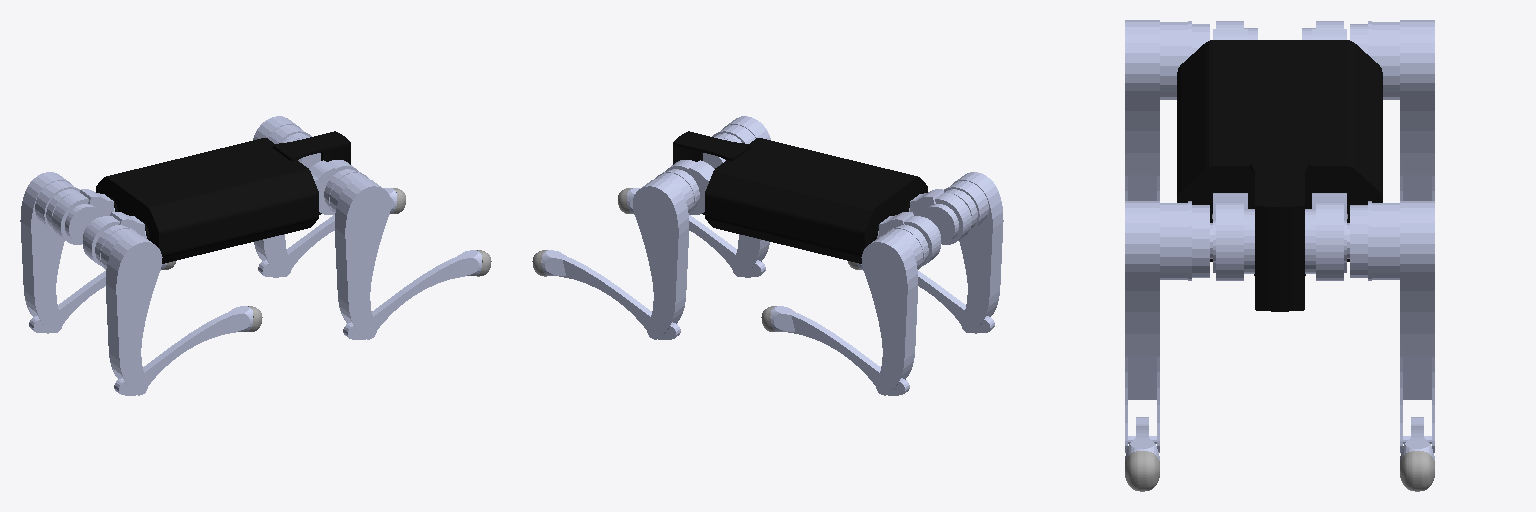
The robot description file, URDF, robot "dog":
<?xml version="1.0" encoding="utf-8"?>
<robot name="dog">
  <!-- ============ Materials ============ -->
  <material name="black"><color rgba="0.10196 0.10196 0.10196 1"/></material>
  <material name="silver"><color rgba="0.79216 0.81961 0.93333 1"/></material>
  <material name="gray"><color rgba="0.69804 0.69804 0.69804 1"/></material>
  <material name="white"><color rgba="1 1 1 1"/></material>

  <!-- ============ Base (主基座) ============ -->
  <link name="base">
    <inertial>
      <origin xyz="0.0063754 1.9125E-17 -5.2009E-18" rpy="0 0 0"/>
      <mass value="13.555"/>
      <inertia ixx="0.051785" ixy="-6.5573E-18" ixz="-6.0673E-18" 
               iyy="0.11159" iyz="2.7689E-18" izz="0.13989"/>
    </inertial>
    <visual>
      <origin xyz="0 0 0" rpy="0 0 0"/>
      <geometry>
        <mesh filename="../meshes/base.STL"/>
      </geometry>
      <material name="black"/>
    </visual>
    <collision>
      <origin xyz="0 0 0" rpy="0 0 0"/>
      <geometry>
        <box size="0.3 0.14 0.10"/>
      </geometry>
    </collision>
  </link>

  <!-- ==================== IMU Link ==================== -->
  <joint name="imu_joint" type="fixed" dont_collapse="true">
    <parent link="base"/>
    <child link="imu_link"/>
    <origin rpy="0 0 0" xyz="-0.08213 0 -0.033"/>
  </joint>
  <link name="imu_link">
    <inertial>
      <mass value="0.001"/>
      <origin rpy="0 0 0" xyz="0 0 0"/>
      <inertia ixx="0.0001" ixy="0" ixz="0" iyy="0.0001" iyz="0" izz="0.0001"/>
    </inertial>
    <visual>
      <origin rpy="0 0 0" xyz="0 0 0"/>
      <geometry>
        <box size="0.001 0.001 0.001"/>
      </geometry>
    </visual>
  </link>

  <!-- ==================== FL Leg ==================== -->
  <link name="FL_hip">
    <inertial>
      <origin xyz="-0.010697 -0.0033174 3.5324E-18" rpy="0 0 0"/>
      <mass value="0.33292"/>
      <inertia ixx="0.0001789" ixy="-1.0761E-05" ixz="-1.0819E-20" 
               iyy="0.0003417" iyz="1.4246E-20" izz="0.00025417"/>
    </inertial>
    <visual>
      <origin xyz="0 0 0" rpy="0 0 0"/>
      <geometry>
        <mesh filename="../meshes/FL_hip.STL"/>
      </geometry>
      <material name="silver"/>
    </visual>
    <collision>
      <origin xyz="0 0.088 0" rpy="1.5708 0 0"/>
      <geometry>
        <cylinder length="0.0315" radius="0.0405"/>
      </geometry>
    </collision>
  </link>
  
  <joint name="FL_hip_joint" type="revolute">
    <origin xyz="0.2145 0.05 0" rpy="0 0 0"/>
    <parent link="base"/>
    <child link="FL_hip"/>
    <axis xyz="-1 0 0"/>
    <limit lower="-1.05" upper="1.05" effort="17" velocity="30.1"/>
  </joint>

  <link name="FL_thigh">
    <inertial>
      <origin xyz="-0.0069171 -0.014196 -0.040905" rpy="0 0 0"/>
      <mass value="1.5467"/>
      <inertia ixx="0.0064369" ixy="-0.00015187" ixz="0.00066183" 
               iyy="0.0062486" iyz="-0.00089812" izz="0.0014778"/>
    </inertial>
    <visual>
      <origin xyz="0 0 0" rpy="0 0 0"/>
      <geometry>
        <mesh filename="../meshes/FL_thigh.STL"/>
      </geometry>
      <material name="silver"/>
    </visual>
    <collision>
      <origin xyz="-0.018 0 -0.11" rpy="0 1.5708 0"/>
      <geometry>
        <box size="0.12 0.035 0.04577"/>
      </geometry>
    </collision>
  </link>
  
  <joint name="FL_thigh_joint" type="revolute">
    <origin xyz="0 0.088 0" rpy="0 0 0"/>
    <parent link="FL_hip"/>
    <child link="FL_thigh"/>
    <axis xyz="0 -1 0"/>
    <limit lower="-1.57" upper="3.49" effort="17" velocity="30.1"/>
  </joint>

  <link name="FL_calf">
    <inertial>
      <origin xyz="0.012446 6.1697E-10 -0.11689" rpy="0 0 0"/>
      <mass value="0.1266"/>
      <inertia ixx="0.00089879" ixy="-1.6714E-11" ixz="-3.7677E-05" 
               iyy="0.0009089" iyz="4.713E-12" izz="1.8028E-05"/>
    </inertial>
    <visual>
      <origin xyz="0 0 0" rpy="0 0 0"/>
      <geometry>
        <mesh filename="../meshes/FL_calf.STL"/>
      </geometry>
      <material name="silver"/>
    </visual>
    <collision>
      <origin xyz="0.008 0 -0.06" rpy="0 -0.21 0"/>
      <geometry><cylinder length="0.12" radius="0.012"/></geometry>
    </collision>
  </link>
  
  <joint name="FL_calf_joint" type="revolute">
    <origin xyz="0 0 -0.22" rpy="0 0 0"/>
    <parent link="FL_thigh"/>
    <child link="FL_calf"/>
    <axis xyz="0 1 0"/>
    <limit lower="-2.72" upper="-1" effort="34" velocity="20.07"/>
  </joint>

  <link name="FL_calflower">
    <collision>
      <origin xyz="0 0 0" rpy="0 0 0"/>
      <geometry><cylinder length="0.065" radius="0.011"/></geometry>
    </collision>
  </link>
  
  <joint name="FL_calflower_joint" type="fixed">
    <origin xyz="0.020 0 -0.148" rpy="0 0.05 0"/>
    <parent link="FL_calf"/>
    <child link="FL_calflower"/>
    <axis xyz="0 0 0"/>
  </joint>

  <link name="FL_calflower1">
    <collision>
      <origin xyz="0 0 0" rpy="0 0 0"/>
      <geometry><cylinder length="0.04" radius="0.0105"/></geometry>
    </collision>
  </link>
  
  <joint name="FL_calflower1_joint" type="fixed">
    <origin xyz="-0.007 0 -0.044" rpy="0 0.4 0"/>
    <parent link="FL_calflower"/>
    <child link="FL_calflower1"/>
    <axis xyz="0 0 0"/>
  </joint>

  <link name="FL_foot">
    <inertial>
      <origin xyz="-1.5361E-11 9.9171E-11 9.5637E-11" rpy="0 0 0"/>
      <mass value="0.03385"/>
      <inertia ixx="4.3616E-06" ixy="1.5524E-12" ixz="-9.2947E-07" 
               iyy="4.8375E-06" iyz="-7.5217E-13" izz="5.3891E-06"/>
    </inertial>
    <visual>
      <origin xyz="0 0 0" rpy="0 0 0"/>
      <geometry>
        <mesh filename="../meshes/FL_foot.STL"/>
      </geometry>
      <material name="gray"/>
    </visual>
    <collision>
      <origin xyz="0.001 0 0.005" rpy="0 0 0"/>
      <geometry>
        <sphere radius="0.02065"/>
      </geometry>
    </collision>
  </link>
  
  <joint name="FL_foot_joint" type="fixed">
    <origin xyz="0 0 -0.22849" rpy="0 0 0"/>
    <parent link="FL_calf"/>
    <child link="FL_foot"/>
    <axis xyz="0 0 0"/>
  </joint>

  <!-- ==================== FR Leg ==================== -->
  <link name="FR_hip">
    <inertial>
      <origin xyz="-0.010697 0.0033174 -5.3064E-18" rpy="0 0 0"/>
      <mass value="0.33292"/>
      <inertia ixx="0.0001789" ixy="1.0761E-05" ixz="2.9382E-20" 
               iyy="0.0003417" iyz="1.7422E-20" izz="0.00025417"/>
    </inertial>
    <visual>
      <origin xyz="0 0 0" rpy="0 0 0"/>
      <geometry>
        <mesh filename="../meshes/FR_hip.STL"/>
      </geometry>
      <material name="silver"/>
    </visual>
    <collision>
      <origin xyz="0 -0.088 0" rpy="1.5708 0 0"/>
      <geometry>
        <cylinder length="0.0315" radius="0.0405"/>
      </geometry>
    </collision>
  </link>
  
  <joint name="FR_hip_joint" type="revolute">
    <origin xyz="0.2145 -0.05 0" rpy="0 0 0"/>
    <parent link="base"/>
    <child link="FR_hip"/>
    <axis xyz="-1 0 0"/>
    <limit lower="-1.05" upper="1.05" effort="17" velocity="30.1"/>
  </joint>

  <link name="FR_thigh">
    <inertial>
      <origin xyz="-0.0069171 0.014196 -0.040905" rpy="0 0 0"/>
      <mass value="1.5467"/>
      <inertia ixx="0.0064369" ixy="0.00015187" ixz="0.00066183" 
               iyy="0.0062486" iyz="0.00089812" izz="0.0014778"/>
    </inertial>
    <visual>
      <origin xyz="0 0 0" rpy="0 0 0"/>
      <geometry>
        <mesh filename="../meshes/FR_thigh.STL"/>
      </geometry>
      <material name="silver"/>
    </visual>
    <collision>
      <origin xyz="-0.018 0 -0.11" rpy="0 1.5708 0"/>
      <geometry>
        <box size="0.12 0.035 0.04577"/>
      </geometry>
    </collision>
  </link>
  
  <joint name="FR_thigh_joint" type="revolute">
    <origin xyz="0 -0.088 0" rpy="0 0 0"/>
    <parent link="FR_hip"/>
    <child link="FR_thigh"/>
    <axis xyz="0 1 0"/>
    <limit lower="-1.57" upper="3.49" effort="17" velocity="30.1"/>
  </joint>

  <link name="FR_calf">
    <inertial>
      <origin xyz="0.012446 6.1697E-10 -0.11689" rpy="0 0 0"/>
      <mass value="0.1266"/>
      <inertia ixx="0.00089879" ixy="-1.6714E-11" ixz="-3.7677E-05" 
               iyy="0.0009089" iyz="4.713E-12" izz="1.8028E-05"/>
    </inertial>
    <visual>
      <origin xyz="0 0 0" rpy="0 0 0"/>
      <geometry>
        <mesh filename="../meshes/FR_calf.STL"/>
      </geometry>
      <material name="silver"/>
    </visual>
    <collision>
      <origin xyz="0.008 0 -0.06" rpy="0 -0.21 0"/>
      <geometry><cylinder length="0.12" radius="0.012"/></geometry>
    </collision>
  </link>
  
  <joint name="FR_calf_joint" type="revolute">
    <origin xyz="0 0 -0.22" rpy="0 0 0"/>
    <parent link="FR_thigh"/>
    <child link="FR_calf"/>
    <axis xyz="0 -1 0"/>
    <limit lower="1" upper="2.72" effort="34" velocity="20.07"/>
  </joint>

  <link name="FR_calflower">
    <collision>
      <origin xyz="0 0 0" rpy="0 0 0"/>
      <geometry><cylinder length="0.065" radius="0.011"/></geometry>
    </collision>
  </link>
  
  <joint name="FR_calflower_joint" type="fixed">
    <origin xyz="0.020 0 -0.148" rpy="0 0.05 0"/>
    <parent link="FR_calf"/>
    <child link="FR_calflower"/>
    <axis xyz="0 0 0"/>
  </joint>

  <link name="FR_calflower1">
    <collision>
      <origin xyz="0 0 0" rpy="0 0 0"/>
      <geometry><cylinder length="0.04" radius="0.0105"/></geometry>
    </collision>
  </link>
  
  <joint name="FR_calflower1_joint" type="fixed">
    <origin xyz="-0.007 0 -0.044" rpy="0 0.48 0"/>
    <parent link="FR_calflower"/>
    <child link="FR_calflower1"/>
    <axis xyz="0 0 0"/>
  </joint>

  <link name="FR_foot">
    <inertial>
      <origin xyz="-6.8027E-11 1.2695E-10 2.7911E-11" rpy="0 0 0"/>
      <mass value="0.03385"/>
      <inertia ixx="4.3616E-06" ixy="1.5049E-12" ixz="-9.2947E-07" 
               iyy="4.8375E-06" iyz="-7.2331E-13" izz="5.3891E-06"/>
    </inertial>
    <visual>
      <origin xyz="0 0 0" rpy="0 0 0"/>
      <geometry>
        <mesh filename="../meshes/FR_foot.STL"/>
      </geometry>
      <material name="gray"/>
    </visual>
    <collision>
      <origin xyz="0.001 0 0.005" rpy="0 0 0"/>
      <geometry>
        <sphere radius="0.02065"/>
      </geometry>
    </collision>
  </link>
  
  <joint name="FR_foot_joint" type="fixed">
    <origin xyz="0 0 -0.22849" rpy="0 0 0"/>
    <parent link="FR_calf"/>
    <child link="FR_foot"/>
    <axis xyz="0 0 0"/>
  </joint>

  <!-- ==================== RR Leg ==================== -->
  <link name="RR_hip">
    <inertial>
      <origin xyz="0.010697 0.0033174 6.5589E-19" rpy="0 0 0"/>
      <mass value="0.33292"/>
      <inertia ixx="0.0001789" ixy="-1.0761E-05" ixz="3.9204E-21" 
               iyy="0.0003417" iyz="-7.4276E-21" izz="0.00025417"/>
    </inertial>
    <visual>
      <origin xyz="0 0 0" rpy="0 0 0"/>
      <geometry>
        <mesh filename="../meshes/RR_hip.STL"/>
      </geometry>
      <material name="silver"/>
    </visual>
    <collision>
      <origin xyz="0 -0.088 0" rpy="1.5708 0 0"/>
      <geometry>
        <cylinder length="0.0315" radius="0.0405"/>
      </geometry>
    </collision>
  </link>
  
  <joint name="RR_hip_joint" type="revolute">
    <origin xyz="-0.2145 -0.05 0" rpy="0 0 0"/>
    <parent link="base"/>
    <child link="RR_hip"/>
    <axis xyz="1 0 0"/>
    <limit lower="-1.05" upper="1.05" effort="17" velocity="30.1"/>
  </joint>

  <link name="RR_thigh">
    <inertial>
      <origin xyz="-0.0069171 0.014196 -0.040905" rpy="0 0 0"/>
      <mass value="1.5467"/>
      <inertia ixx="0.0064369" ixy="0.00015187" ixz="0.00066183" 
               iyy="0.0062486" iyz="0.00089812" izz="0.0014778"/>
    </inertial>
    <visual>
      <origin xyz="0 0 0" rpy="0 0 0"/>
      <geometry>
        <mesh filename="../meshes/RR_thigh.STL"/>
      </geometry>
      <material name="silver"/>
    </visual>
    <collision>
      <origin xyz="-0.018 0 -0.11" rpy="0 1.5708 0"/>
      <geometry>
        <box size="0.12 0.035 0.04577"/>
      </geometry>
    </collision>
  </link>
  
  <joint name="RR_thigh_joint" type="revolute">
    <origin xyz="0 -0.088 0" rpy="0 0 0"/>
    <parent link="RR_hip"/>
    <child link="RR_thigh"/>
    <axis xyz="0 1 0"/>
    <limit lower="-1.57" upper="3.49" effort="17" velocity="30.1"/>
  </joint>

  <link name="RR_calf">
    <inertial>
      <origin xyz="0.012446 6.1697E-10 -0.11689" rpy="0 0 0"/>
      <mass value="0.1266"/>
      <inertia ixx="0.00089879" ixy="-1.6714E-11" ixz="-3.7677E-05" 
               iyy="0.0009089" iyz="4.713E-12" izz="1.8028E-05"/>
    </inertial>
    <visual>
      <origin xyz="0 0 0" rpy="0 0 0"/>
      <geometry>
        <mesh filename="../meshes/RR_calf.STL"/>
      </geometry>
      <material name="silver"/>
    </visual>
    <collision>
      <origin xyz="0.008 0 -0.06" rpy="0 -0.21 0"/>
      <geometry><cylinder length="0.12" radius="0.012"/></geometry>
    </collision>
  </link>
  
  <joint name="RR_calf_joint" type="revolute">
    <origin xyz="0 0 -0.22" rpy="0 0 0"/>
    <parent link="RR_thigh"/>
    <child link="RR_calf"/>
    <axis xyz="0 -1 0"/>
    <limit lower="1" upper="2.72" effort="34" velocity="20.07"/>
  </joint>

  <link name="RR_calflower">
    <collision>
      <origin xyz="0 0 0" rpy="0 0 0"/>
      <geometry><cylinder length="0.065" radius="0.011"/></geometry>
    </collision>
  </link>
  
  <joint name="RR_calflower_joint" type="fixed">
    <origin xyz="0.020 0 -0.148" rpy="0 0.05 0"/>
    <parent link="RR_calf"/>
    <child link="RR_calflower"/>
    <axis xyz="0 0 0"/>
  </joint>

  <link name="RR_calflower1">
    <collision>
      <origin xyz="0 0 0" rpy="0 0 0"/>
      <geometry><cylinder length="0.04" radius="0.0105"/></geometry>
    </collision>
  </link>
  
  <joint name="RR_calflower1_joint" type="fixed">
    <origin xyz="-0.007 0 -0.044" rpy="0 0.48 0"/>
    <parent link="RR_calflower"/>
    <child link="RR_calflower1"/>
    <axis xyz="0 0 0"/>
  </joint>

  <link name="RR_foot">
    <inertial>
      <origin xyz="-6.8027E-11 1.2695E-10 2.7911E-11" rpy="0 0 0"/>
      <mass value="0.03385"/>
      <inertia ixx="4.3616E-06" ixy="1.5049E-12" ixz="-9.2947E-07" 
               iyy="4.8375E-06" iyz="-7.2331E-13" izz="5.3891E-06"/>
    </inertial>
    <visual>
      <origin xyz="0 0 0" rpy="0 0 0"/>
      <geometry>
        <mesh filename="../meshes/RR_foot.STL"/>
      </geometry>
      <material name="gray"/>
    </visual>
    <collision>
      <origin xyz="0.001 0 0.005" rpy="0 0 0"/>
      <geometry>
        <sphere radius="0.02065"/>
      </geometry>
    </collision>
  </link>
  
  <joint name="RR_foot_joint" type="fixed">
    <origin xyz="0 0 -0.22849" rpy="0 0 0"/>
    <parent link="RR_calf"/>
    <child link="RR_foot"/>
    <axis xyz="0 0 0"/>
  </joint>

  <!-- ==================== RL Leg ==================== -->
  <link name="RL_hip">
    <inertial>
      <origin xyz="0.010697 -0.0033174 3.7675E-19" rpy="0 0 0"/>
      <mass value="0.33292"/>
      <inertia ixx="0.0001789" ixy="1.0761E-05" ixz="-6.6841E-21" 
               iyy="0.0003417" iyz="-2.6358E-21" izz="0.00025417"/>
    </inertial>
    <visual>
      <origin xyz="0 0 0" rpy="0 0 0"/>
      <geometry>
        <mesh filename="../meshes/RL_hip.STL"/>
      </geometry>
      <material name="silver"/>
    </visual>
    <collision>
      <origin xyz="0 0.088 0" rpy="1.5708 0 0"/>
      <geometry>
        <cylinder length="0.0315" radius="0.0405"/>
      </geometry>
    </collision>
  </link>
  
  <joint name="RL_hip_joint" type="revolute">
    <origin xyz="-0.2145 0.05 0" rpy="0 0 0"/>
    <parent link="base"/>
    <child link="RL_hip"/>
    <axis xyz="1 0 0"/>
    <limit lower="-1.05" upper="1.05" effort="17" velocity="30.1"/>
  </joint>

  <link name="RL_thigh">
    <inertial>
      <origin xyz="-0.0069171 -0.014196 -0.040905" rpy="0 0 0"/>
      <mass value="1.5467"/>
      <inertia ixx="0.0064369" ixy="-0.00015187" ixz="0.00066183" 
               iyy="0.0062486" iyz="-0.00089812" izz="0.0014778"/>
    </inertial>
    <visual>
      <origin xyz="0 0 0" rpy="0 0 0"/>
      <geometry>
        <mesh filename="../meshes/RL_thigh.STL"/>
      </geometry>
      <material name="silver"/>
    </visual>
    <collision>
      <origin xyz="-0.018 0 -0.11" rpy="0 1.5708 0"/>
      <geometry>
        <box size="0.12 0.035 0.04577"/>
      </geometry>
    </collision>
  </link>
  
  <joint name="RL_thigh_joint" type="revolute">
    <origin xyz="0 0.088 0" rpy="0 0 0"/>
    <parent link="RL_hip"/>
    <child link="RL_thigh"/>
    <axis xyz="0 -1 0"/>
    <limit lower="-1.57" upper="3.49" effort="17" velocity="30.1"/>
  </joint>

  <link name="RL_calf">
    <inertial>
      <origin xyz="0.012446 6.1697E-10 -0.11689" rpy="0 0 0"/>
      <mass value="0.1266"/>
      <inertia ixx="0.00089879" ixy="-1.6714E-11" ixz="-3.7677E-05" 
               iyy="0.0009089" iyz="4.713E-12" izz="1.8028E-05"/>
    </inertial>
    <visual>
      <origin xyz="0 0 0" rpy="0 0 0"/>
      <geometry>
        <mesh filename="../meshes/RL_calf.STL"/>
      </geometry>
      <material name="silver"/>
    </visual>
    <collision>
      <origin xyz="0.008 0 -0.06" rpy="0 -0.21 0"/>
      <geometry><cylinder length="0.12" radius="0.012"/></geometry>
    </collision>
  </link>
  
  <joint name="RL_calf_joint" type="revolute">
    <origin xyz="0 0 -0.22" rpy="0 0 0"/>
    <parent link="RL_thigh"/>
    <child link="RL_calf"/>
    <axis xyz="0 1 0"/>
    <limit lower="-2.72" upper="-1" effort="34" velocity="20.07"/>
  </joint>

  <link name="RL_calflower">
    <collision>
      <origin xyz="0 0 0" rpy="0 0 0"/>
      <geometry><cylinder length="0.065" radius="0.011"/></geometry>
    </collision>
  </link>
  
  <joint name="RL_calflower_joint" type="fixed">
    <origin xyz="0.020 0 -0.148" rpy="0 0.05 0"/>
    <parent link="RL_calf"/>
    <child link="RL_calflower"/>
    <axis xyz="0 0 0"/>
  </joint>

  <link name="RL_calflower1">
    <collision>
      <origin xyz="0 0 0" rpy="0 0 0"/>
      <geometry><cylinder length="0.04" radius="0.0105"/></geometry>
    </collision>
  </link>
  
  <joint name="RL_calflower1_joint" type="fixed">
    <origin xyz="-0.007 0 -0.044" rpy="0 0.48 0"/>
    <parent link="RL_calflower"/>
    <child link="RL_calflower1"/>
    <axis xyz="0 0 0"/>
  </joint>

  <link name="RL_foot">
    <inertial>
      <origin xyz="-5.3573E-06 8.9644E-11 0" rpy="0 0 0"/>
      <mass value="0.03385"/>
      <inertia ixx="4.3616E-06" ixy="1.5512E-12" ixz="-9.2947E-07" 
               iyy="4.8375E-06" iyz="-7.5287E-13" izz="5.3891E-06"/>
    </inertial>
    <visual>
      <origin xyz="0 0 0" rpy="0 0 0"/>
      <geometry>
        <mesh filename="../meshes/RR_foot.STL"/>
      </geometry>
      <material name="gray"/>
    </visual>
    <collision>
      <origin xyz="0.001 0 0.005" rpy="0 0 0"/>
      <geometry>
        <sphere radius="0.02065"/>
      </geometry>
    </collision>
  </link>
  
  <joint name="RL_foot_joint" type="fixed">
    <origin xyz="0 0 -0.22849" rpy="0 0 0"/>
    <parent link="RL_calf"/>
    <child link="RL_foot"/>
    <axis xyz="0 0 0"/>
  </joint>

</robot>

--- Facts derived from the render (not from the file) ---
3 views of the same robot in one strip: view 1: azimuth 30°, elevation 25°; view 2: azimuth 150°, elevation 25°; view 3: azimuth 270°, elevation 25° (orthographic).
Robot: dog — 26 links, 25 joints (12 revolute, 13 fixed); root link base; default pose: all joints at 0 but 4 set to mid-range because 0 is outside their limits (FL_calf_joint = -1.86, FR_calf_joint = 1.86, RR_calf_joint = 1.86, RL_calf_joint = -1.86).
Links seen in each view (by area): view 1: base, RR_thigh, FR_thigh, RL_thigh, RR_calf, FR_calf, RL_hip, FL_thigh, FL_calf, RR_hip, RL_calf, FR_hip; view 2: base, RL_thigh, FL_thigh, RR_thigh, RL_calf, FL_calf, RR_hip, FR_thigh, FR_calf, RL_hip, RR_calf, FL_hip; view 3: base, FL_thigh, FR_thigh, RR_thigh, RL_thigh, FL_hip, FR_hip, FL_foot, FR_foot, RR_hip, RL_hip, FL_calf (+1 smaller).
Link boxes in pixels (box(x1,y1,x2,y2)): base: box(96, 131, 350, 263); RR_thigh: box(95, 225, 162, 395); FR_thigh: box(324, 169, 390, 339); RL_thigh: box(20, 172, 79, 332); RR_calf: box(114, 306, 252, 395); FR_calf: box(343, 250, 481, 339); RL_hip: box(52, 189, 114, 244); FL_thigh: box(253, 116, 311, 276); FL_calf: box(258, 188, 396, 277); RR_hip: box(83, 212, 146, 265); RL_calf: box(29, 263, 166, 333); FR_hip: box(309, 160, 358, 214); base: box(673, 131, 927, 263); RL_thigh: box(861, 225, 928, 395); FL_thigh: box(633, 169, 699, 339); RR_thigh: box(944, 172, 1003, 332); RL_calf: box(771, 306, 909, 395); FL_calf: box(542, 250, 680, 339); RR_hip: box(909, 189, 971, 244); FR_thigh: box(712, 116, 770, 276); FR_calf: box(627, 188, 765, 277); RL_hip: box(877, 212, 940, 265); RR_calf: box(857, 263, 994, 333); FL_hip: box(665, 160, 714, 214); base: box(1177, 40, 1382, 311); FL_thigh: box(1347, 201, 1434, 452); FR_thigh: box(1125, 201, 1212, 452); RR_thigh: box(1125, 20, 1209, 200); RL_thigh: box(1350, 20, 1434, 200); FL_hip: box(1305, 193, 1347, 280); FR_hip: box(1212, 193, 1254, 280); FL_foot: box(1400, 451, 1434, 491); FR_foot: box(1125, 451, 1159, 491); RR_hip: box(1213, 21, 1257, 39); RL_hip: box(1302, 21, 1346, 39); FL_calf: box(1400, 417, 1434, 460).
Size in the robot's own frame: 0.7097 by 0.312 by 0.2947 metres.
Meshes: 16 distinct files referenced, 17 mesh visuals loaded (16 binary STL).
